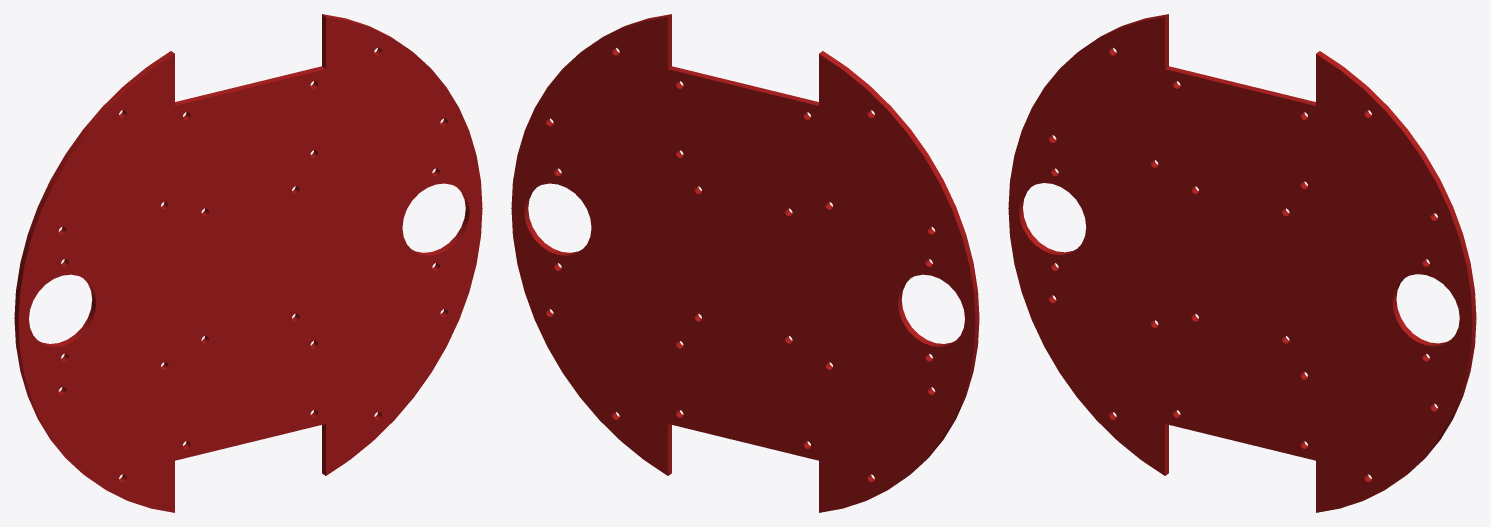
The model's file is CLM_Base_2.dae.
3 renders of one model, left to right at view 1: azimuth 30°, elevation 25°; view 2: azimuth 150°, elevation 25°; view 3: azimuth 330°, elevation 25°, orthographic.
Parts seen in each view (by area): view 1: node0; view 2: node0; view 3: node0.
Part boxes in pixels (x1,y1,x2,y2): node0: (14, 14, 482, 512); node0: (511, 14, 979, 512); node0: (1008, 14, 1476, 512).
Bounding box in the file's own units: 0.2 × 0.1891 × 0.003.
